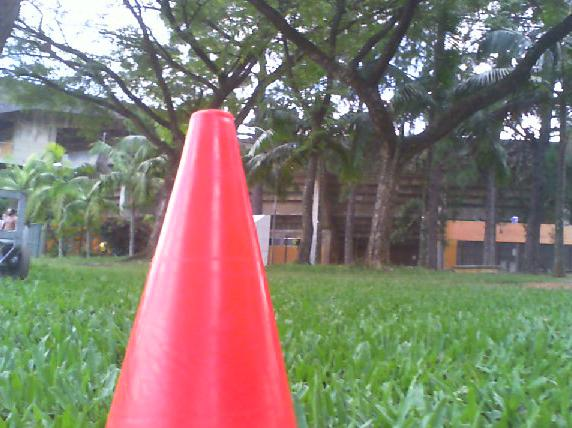0 cone: (102, 110, 298, 428)
